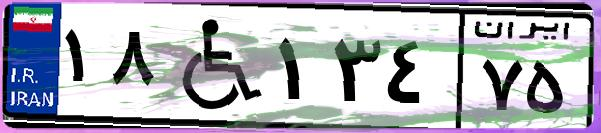1: (270, 28, 330, 110), (57, 26, 110, 100)
3: (330, 28, 385, 110)
4: (385, 28, 445, 110)
5: (525, 38, 570, 115)
7: (475, 38, 525, 113)
8: (110, 28, 158, 98)
ژ (معلولین و جانبازان): (158, 12, 270, 120)
